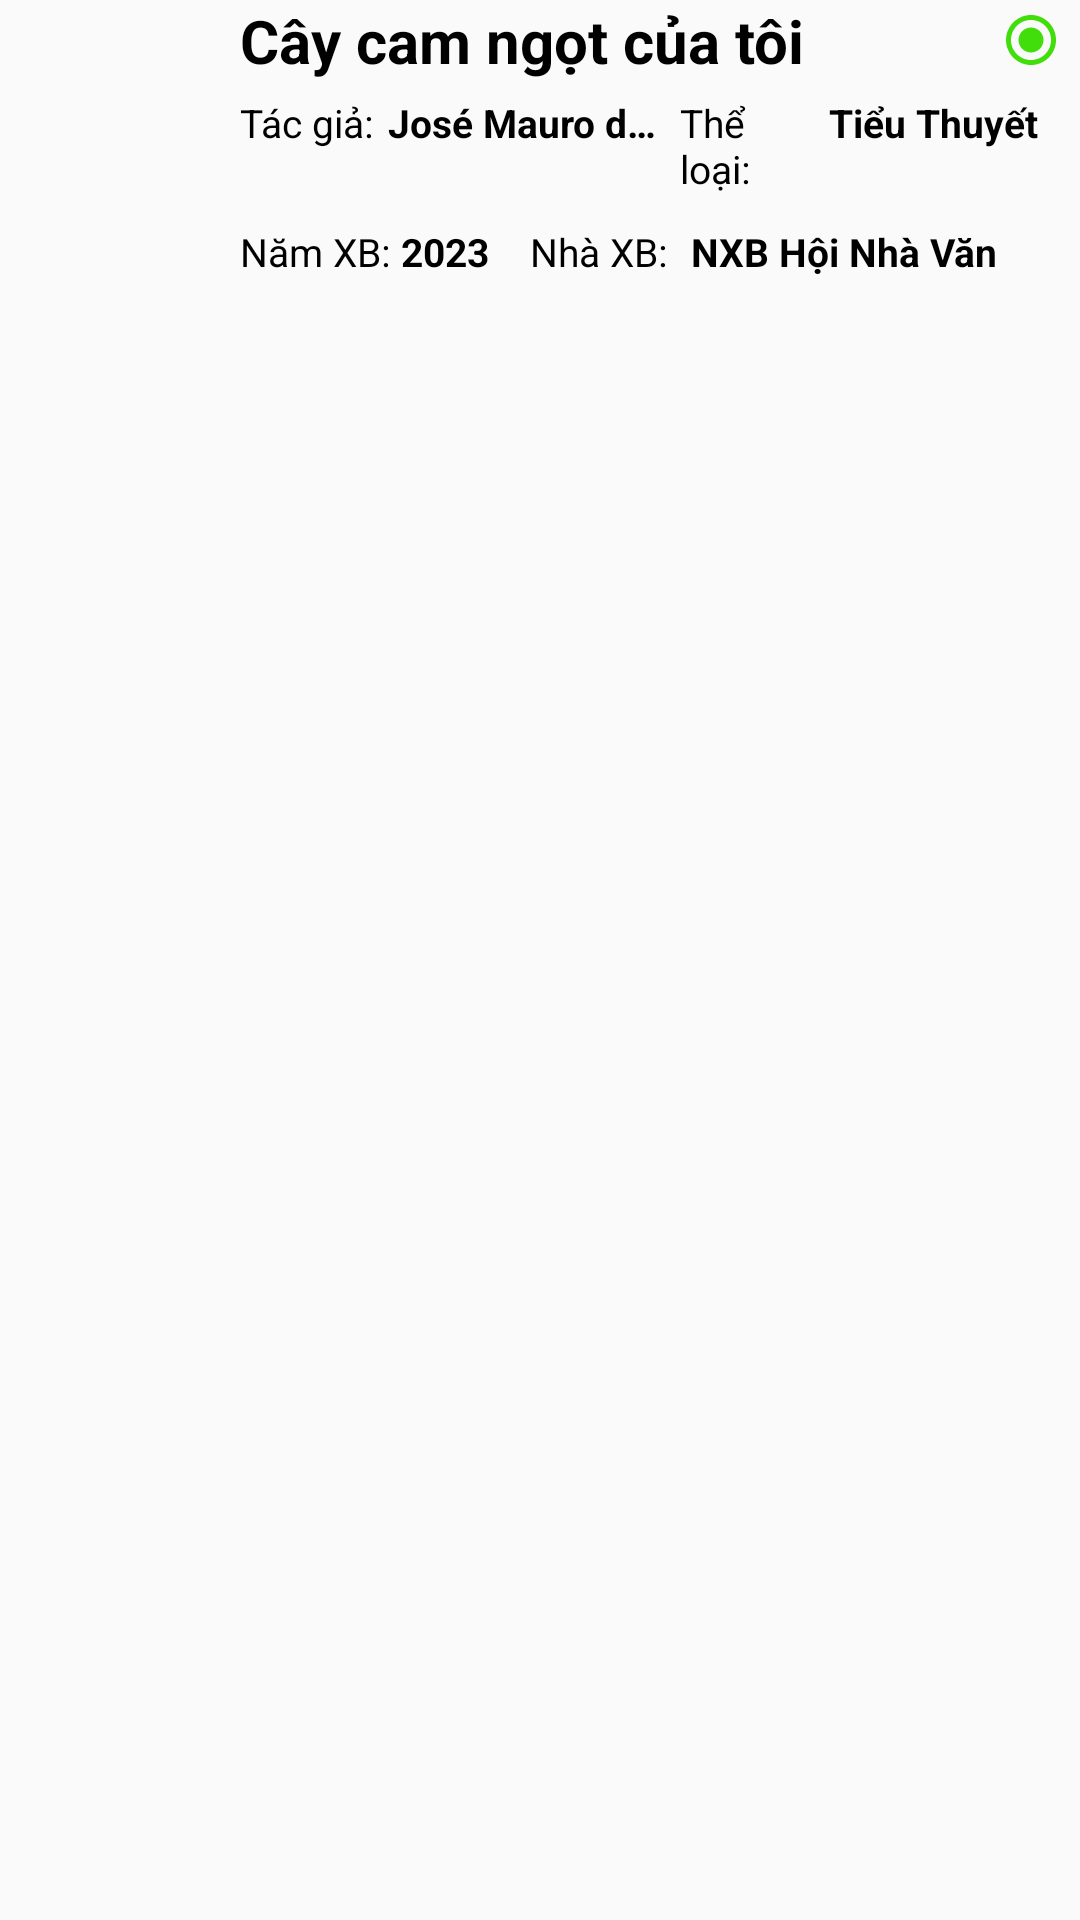

Locate icon controls on the screen. Image size 1080px x 1920px, boxes as (x1=x1, y1=y1, x2=x2, y2=y2).
availability: (x1=1006, y1=15, x2=1056, y2=65)
